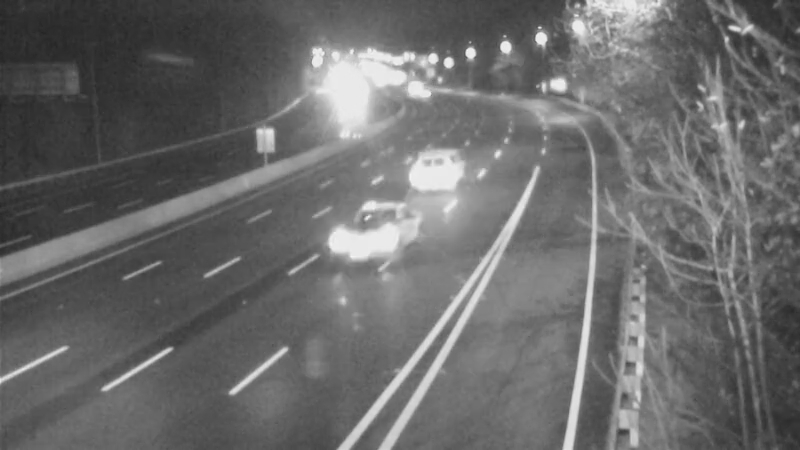vehicle: (393, 129, 473, 209), (328, 199, 408, 279), (388, 59, 438, 109), (399, 70, 449, 120)
